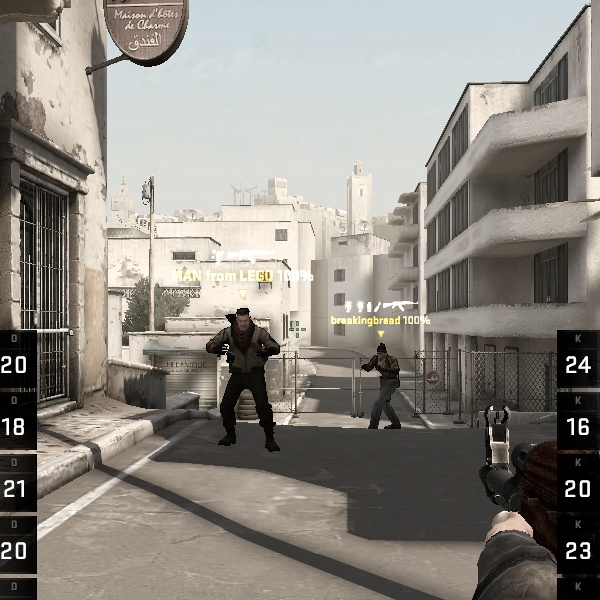t_body: (204, 308, 281, 452), (360, 343, 402, 428)
t_head: (236, 307, 251, 332), (376, 344, 388, 363)
